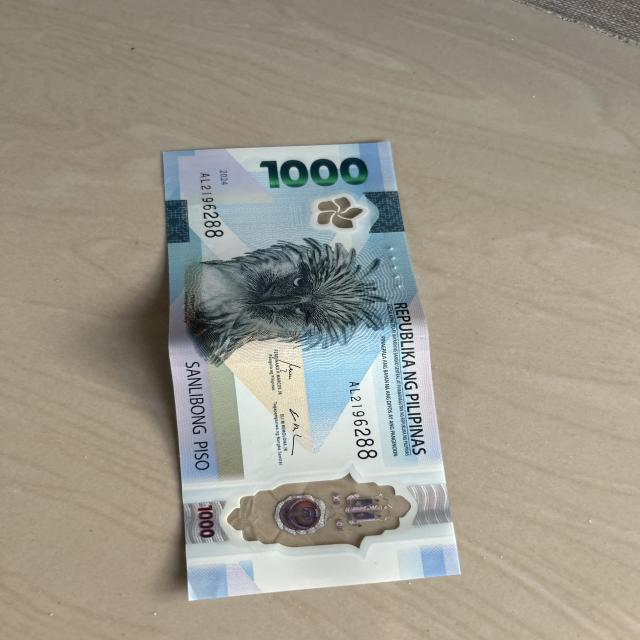clear_window: (228, 476, 408, 555)
eagle: (184, 251, 390, 355)
sampaguita: (312, 193, 365, 230)
